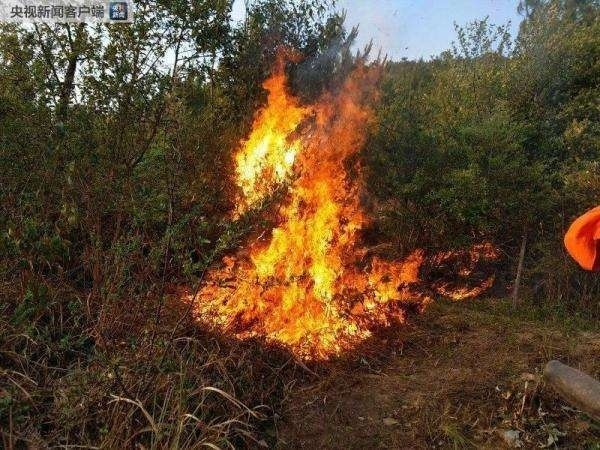fire: (169, 45, 475, 374)
